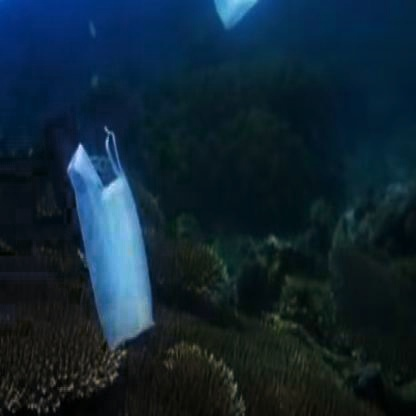plastic: (70, 140, 171, 370)
